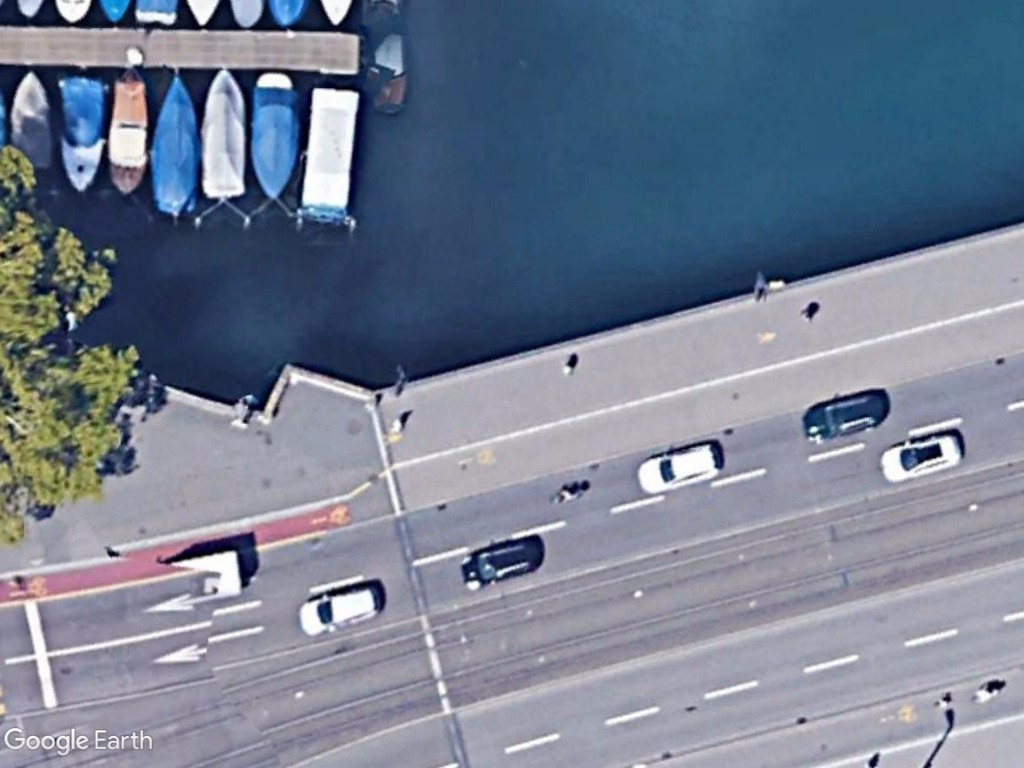boat: (149, 68, 201, 218), (50, 68, 109, 194), (199, 66, 250, 201), (247, 70, 298, 201), (103, 70, 151, 198)
car: (635, 439, 725, 498), (297, 580, 383, 640), (874, 432, 966, 487)
